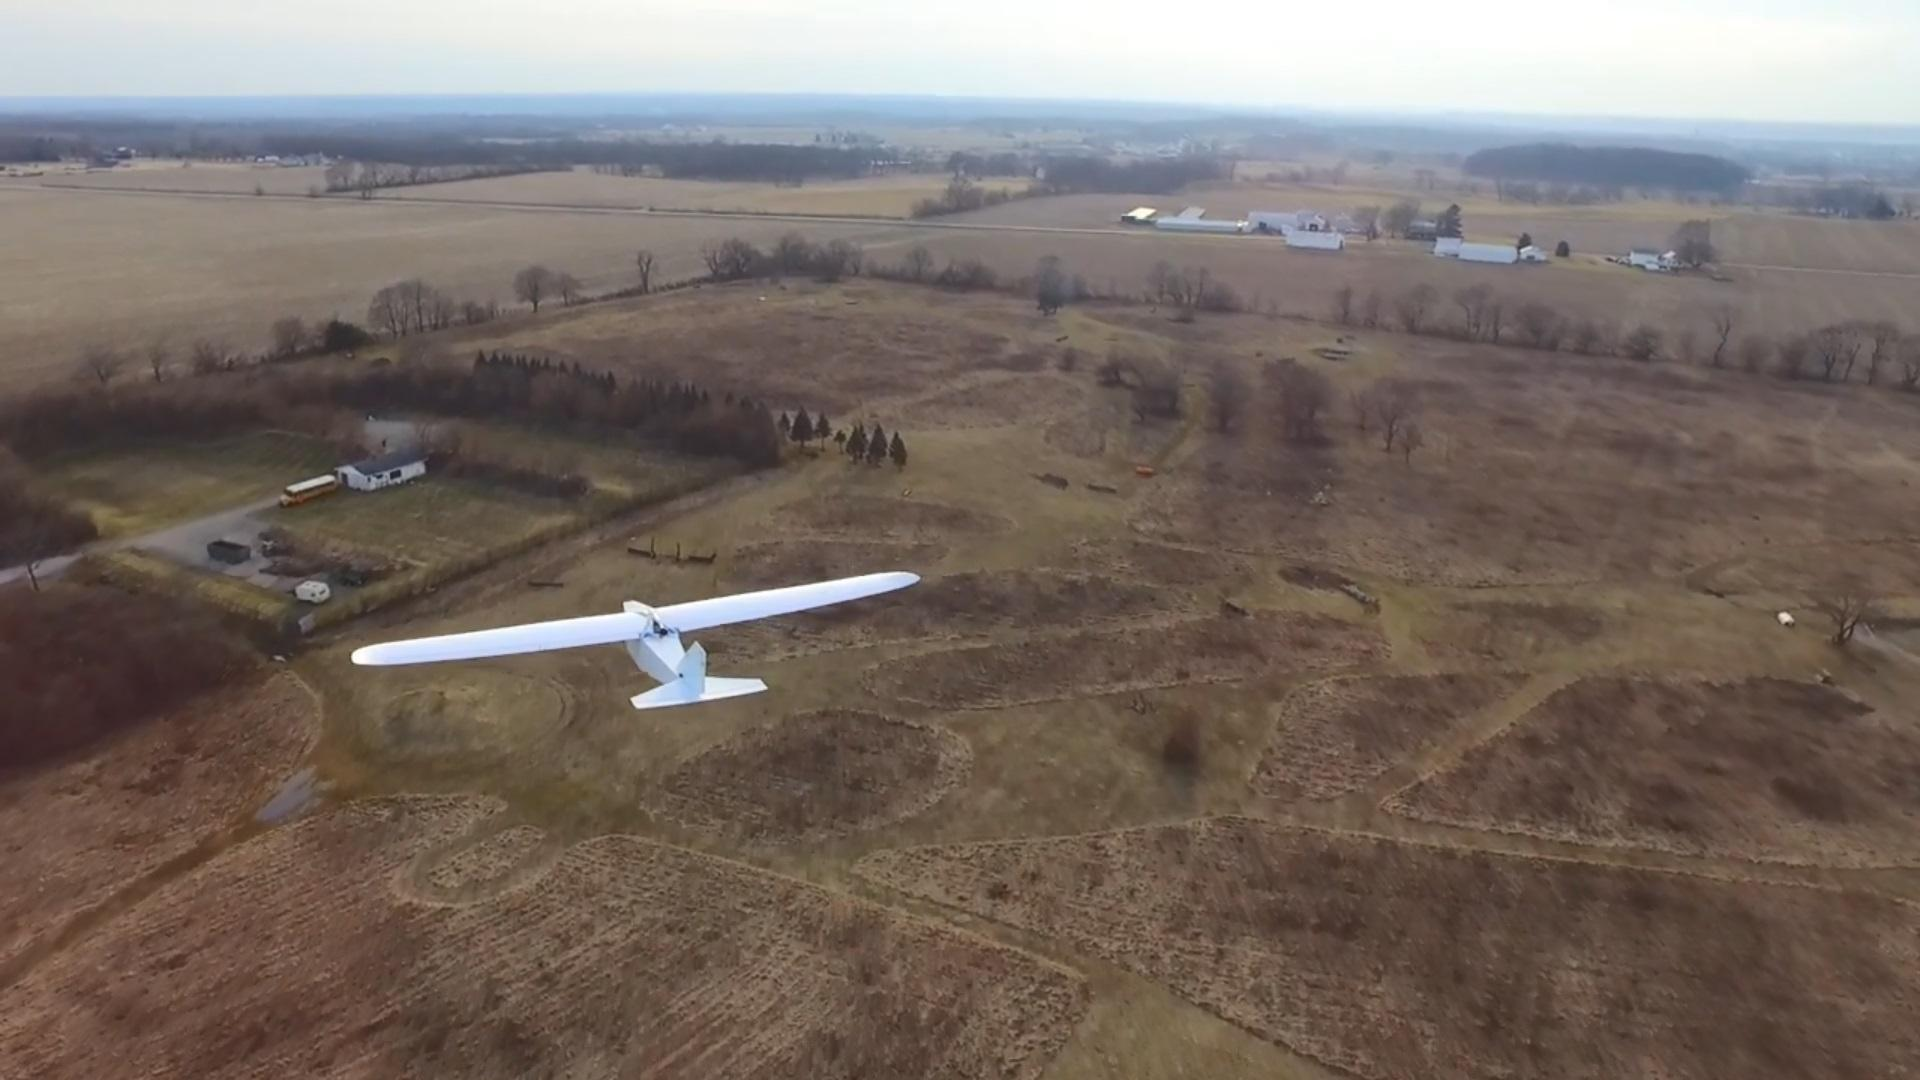Airplane: (347, 566, 924, 715)
